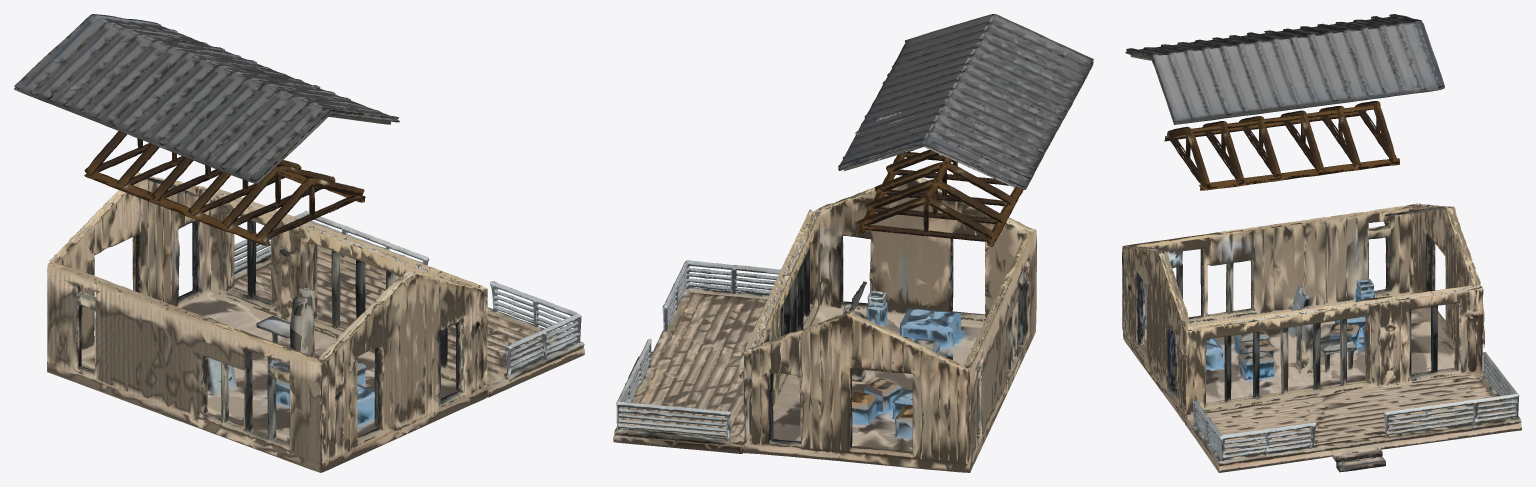
File: cottage-assembled.glb
The picture shows the model from 3 angles, left to right: view 1: azimuth 30°, elevation 25°; view 2: azimuth 150°, elevation 25°; view 3: azimuth 270°, elevation 25°; orthographic projection. The views are drawn at different scales.
Parts seen in each view (by area): view 1: cottage_body, cottage_roof, cottage_truss; view 2: cottage_body, cottage_roof, cottage_truss; view 3: cottage_body, cottage_roof, cottage_truss.
Part boxes in pixels (bbox=[...]): cottage_body: bbox=[47, 172, 584, 472]; cottage_roof: bbox=[14, 14, 399, 184]; cottage_truss: bbox=[84, 131, 365, 245]; cottage_body: bbox=[613, 175, 1036, 472]; cottage_roof: bbox=[838, 14, 1093, 189]; cottage_truss: bbox=[856, 149, 1023, 246]; cottage_body: bbox=[1122, 203, 1521, 472]; cottage_roof: bbox=[1125, 14, 1444, 124]; cottage_truss: bbox=[1164, 101, 1399, 190].
Bounding box in the file's own units: 0.361 × 0.2627 × 0.3117.
1 material, 1 textured.
